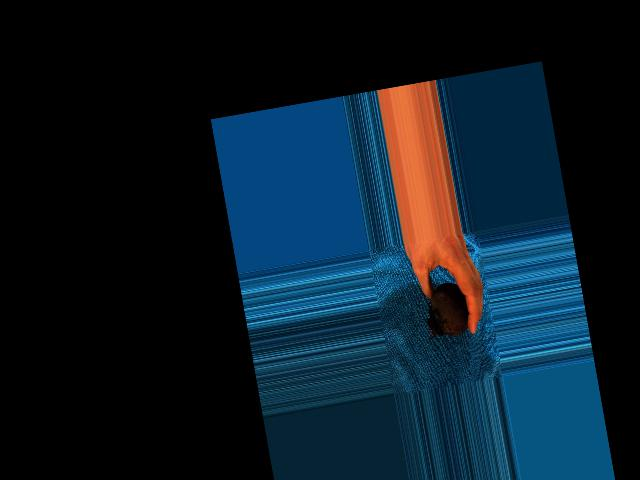beet: (420, 280, 471, 340)
